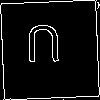U: (24, 24, 63, 72)
